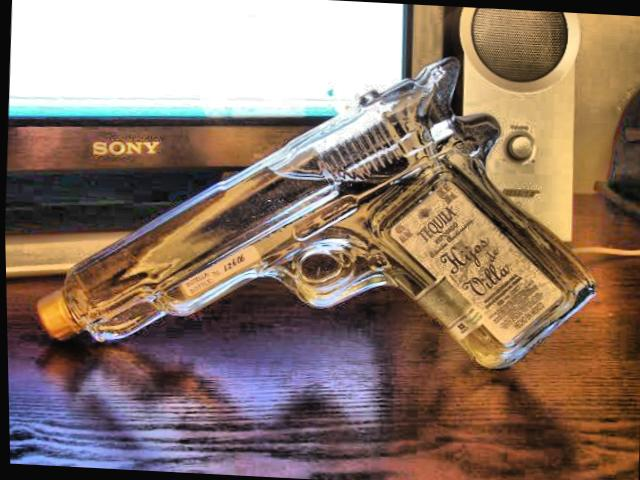pistol: (25, 34, 605, 375)
